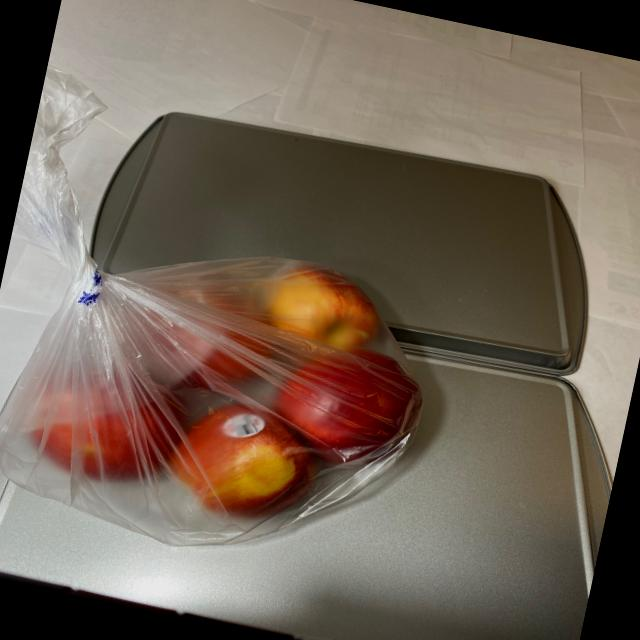apple: (8, 211, 449, 557)
